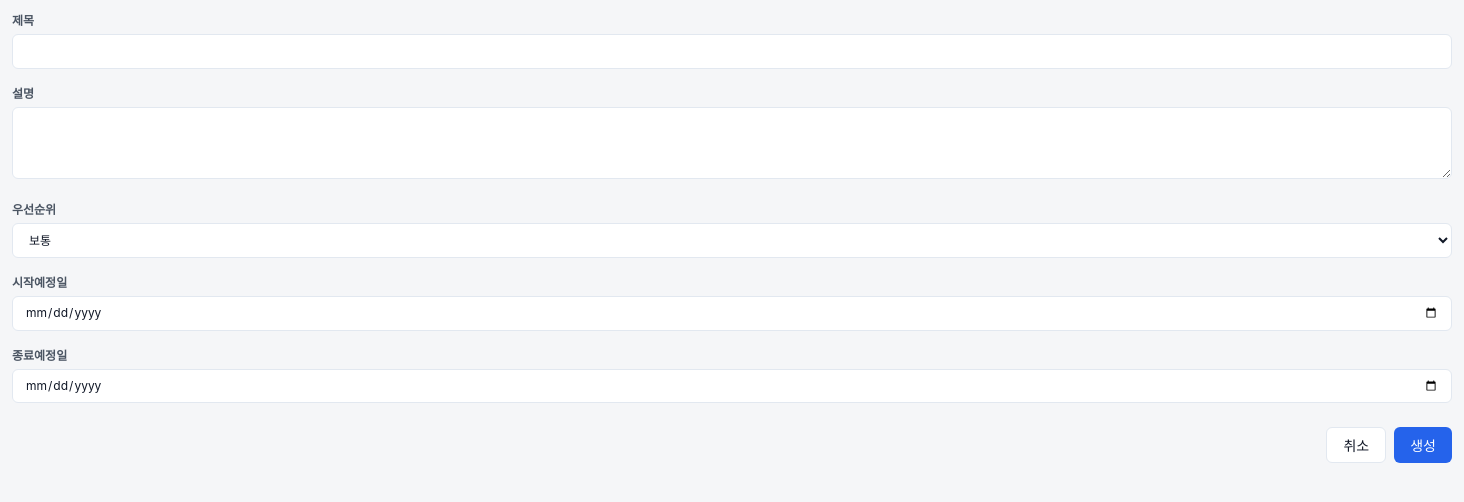
Test: TicketForm (TC-COMP-004) › C004-3: 빈 제목으로 제출하면 "제목을 입력해주세요" 에러를 표시한다
Click the button with test id "ticket-form-submit" at (1423,445), box [1394,427,1452,463]
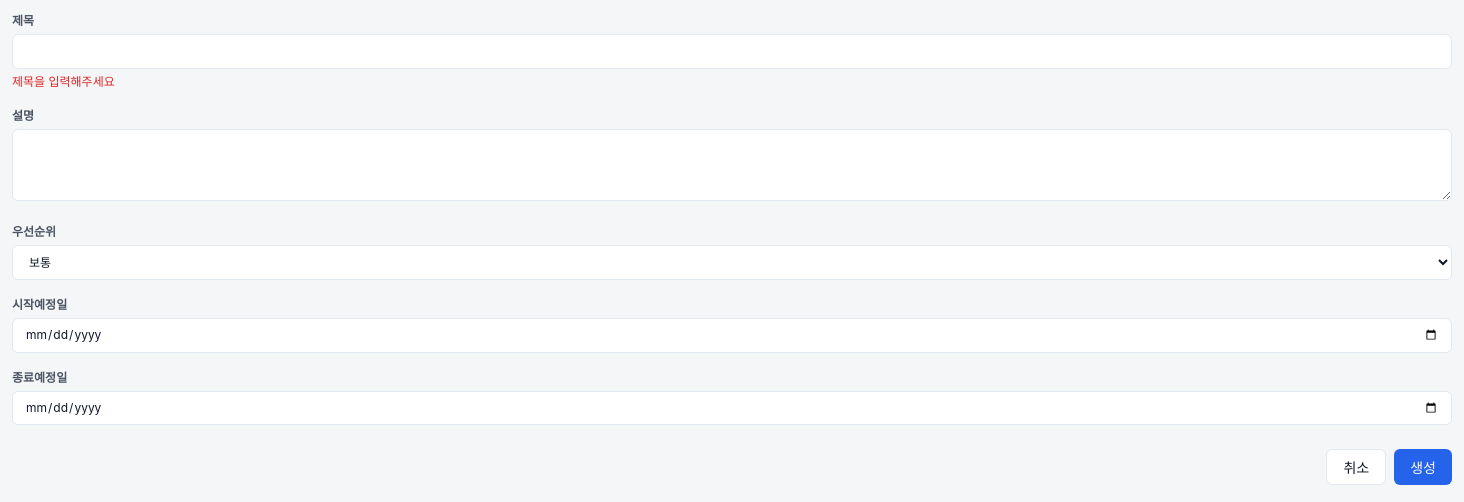
Result: the text "제목을 입력해주세요" is shown at [12,74,115,89]
